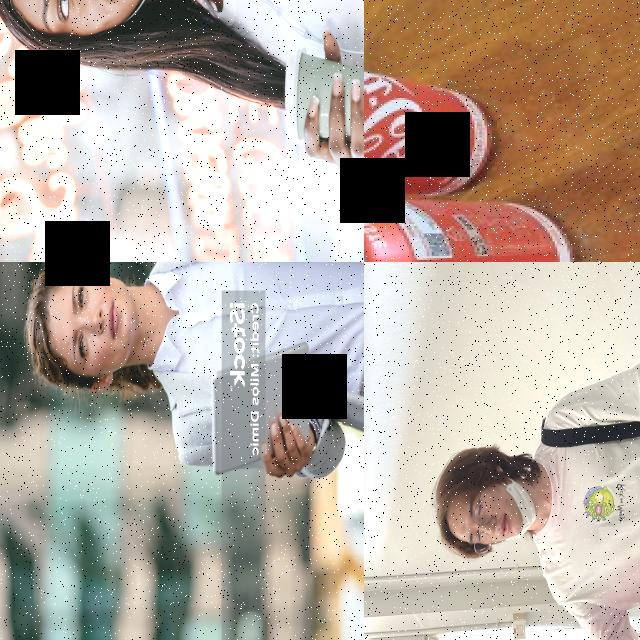can: (364, 51, 499, 199), (364, 193, 578, 262)
cup: (283, 48, 364, 144)
